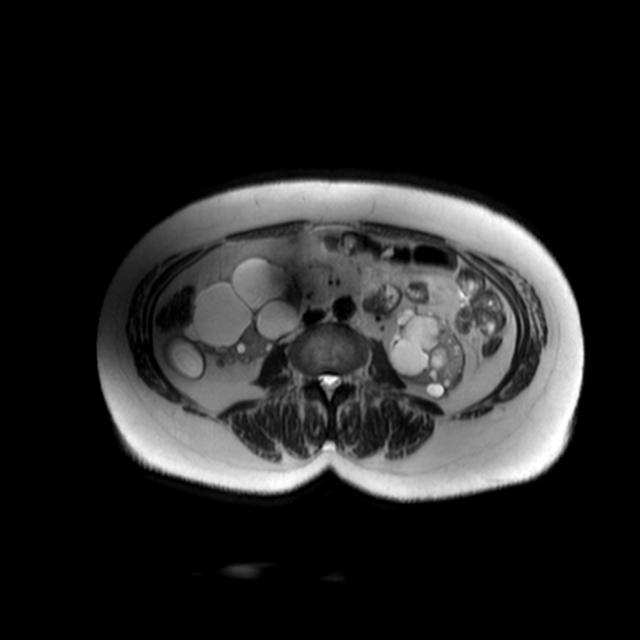sag: (165, 258, 306, 380)
sol: (386, 305, 466, 400)
